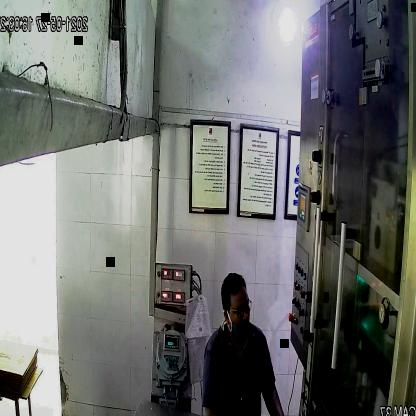goggles: (219, 294, 255, 322)
